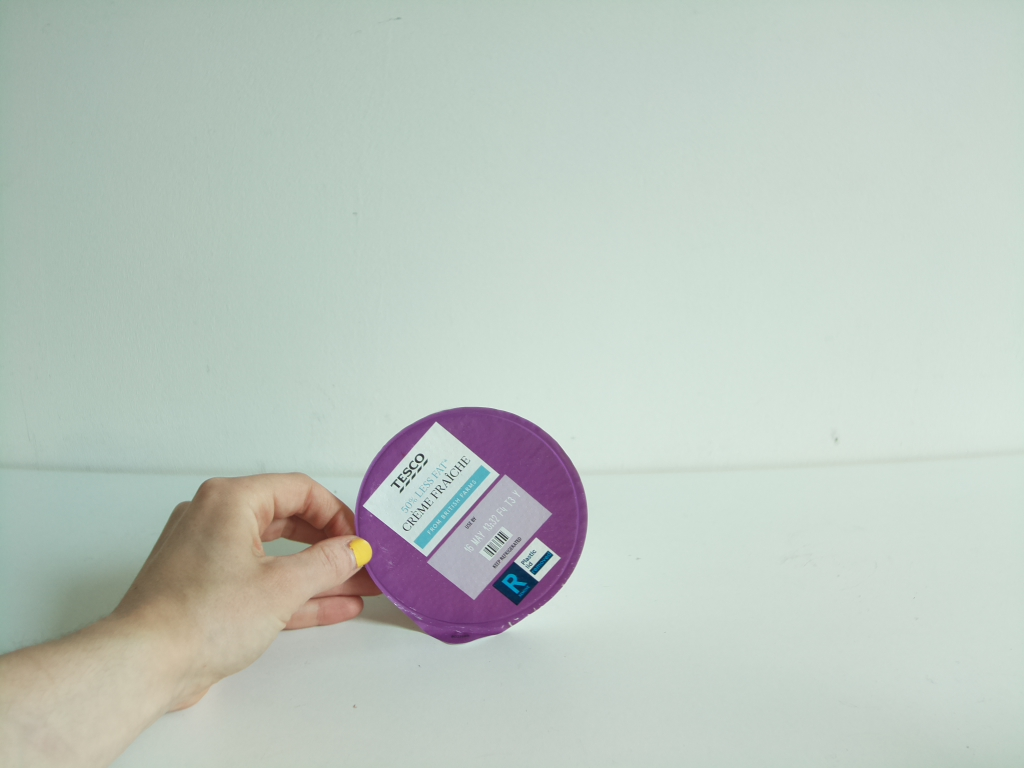cream: (347, 401, 598, 654)
